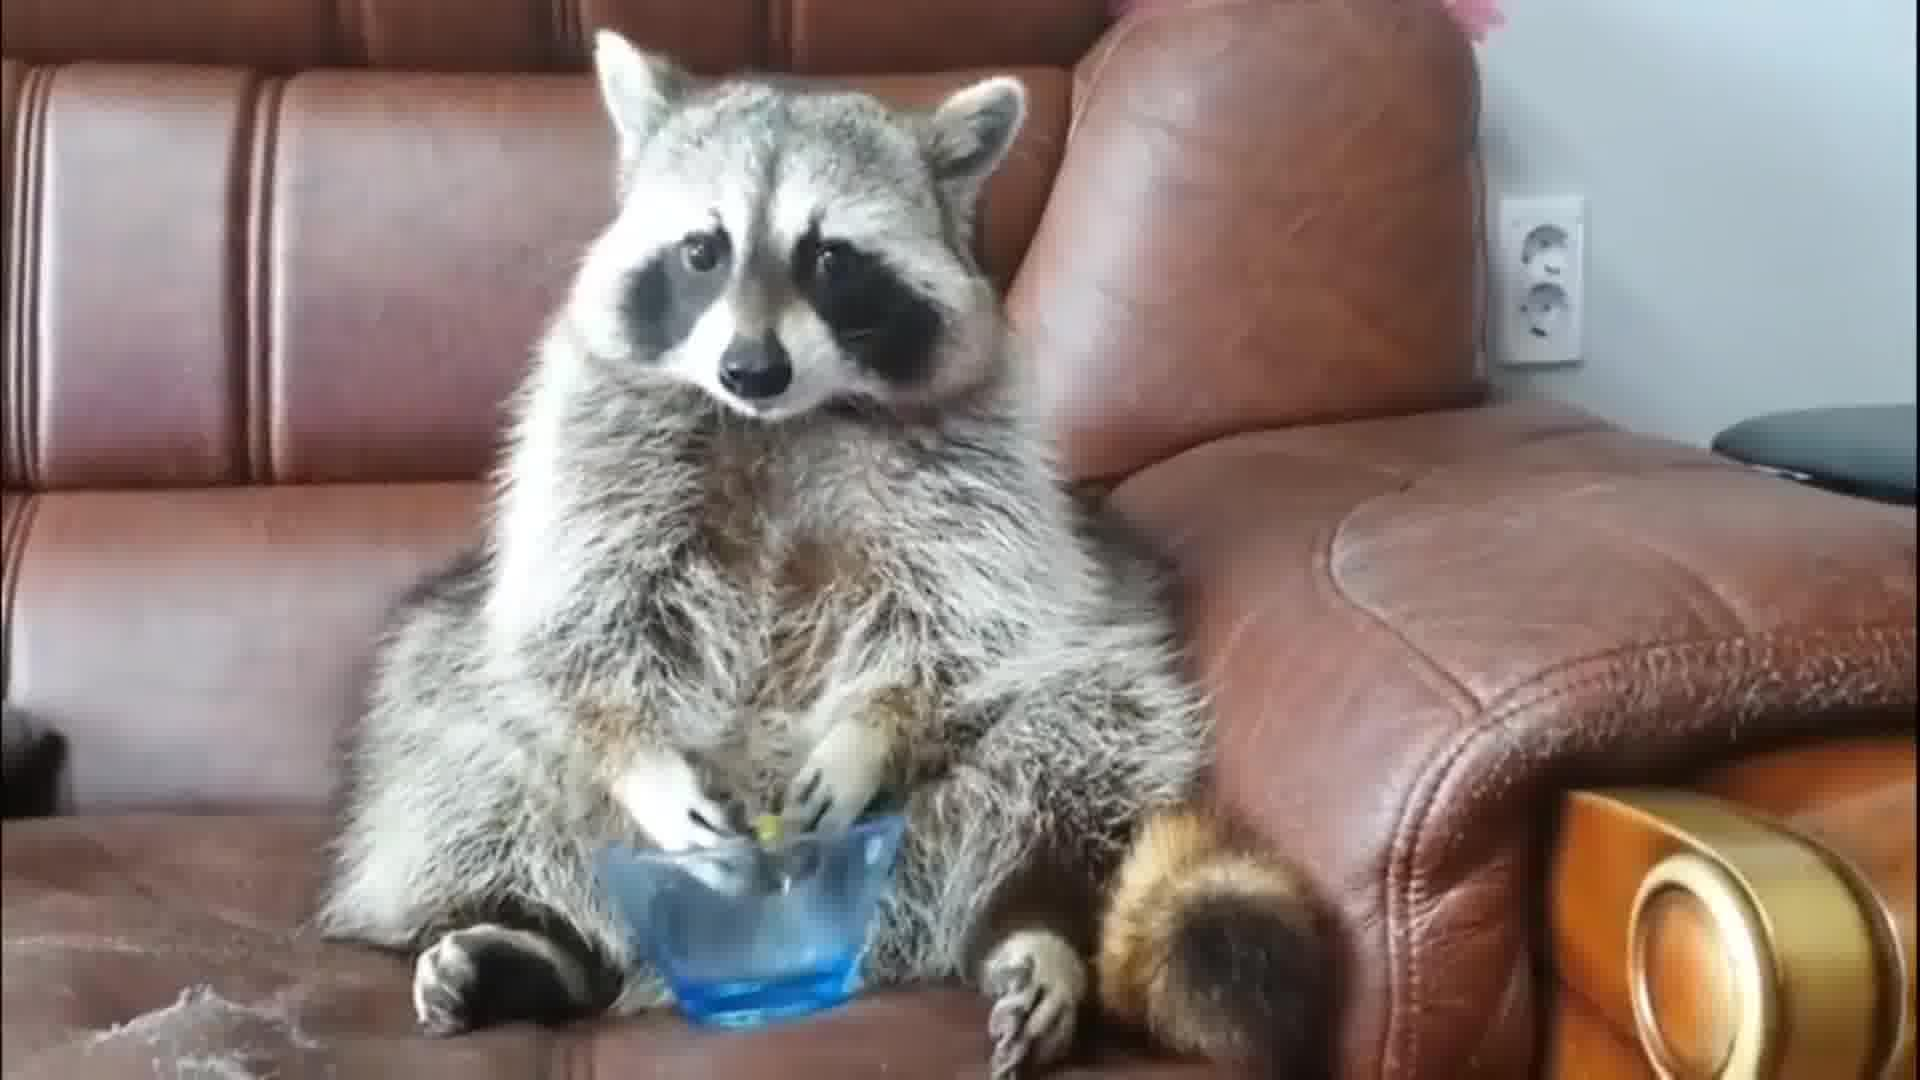raccoon: (314, 24, 1346, 1080)
